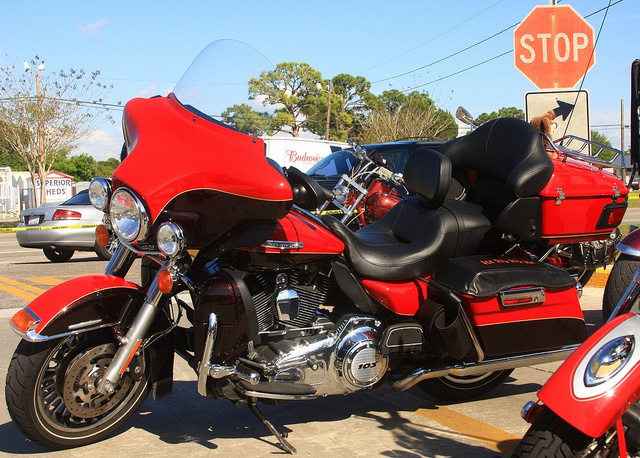non-vehicle: (5, 38, 639, 454), (511, 265, 639, 457), (313, 137, 408, 228), (602, 227, 639, 322)
